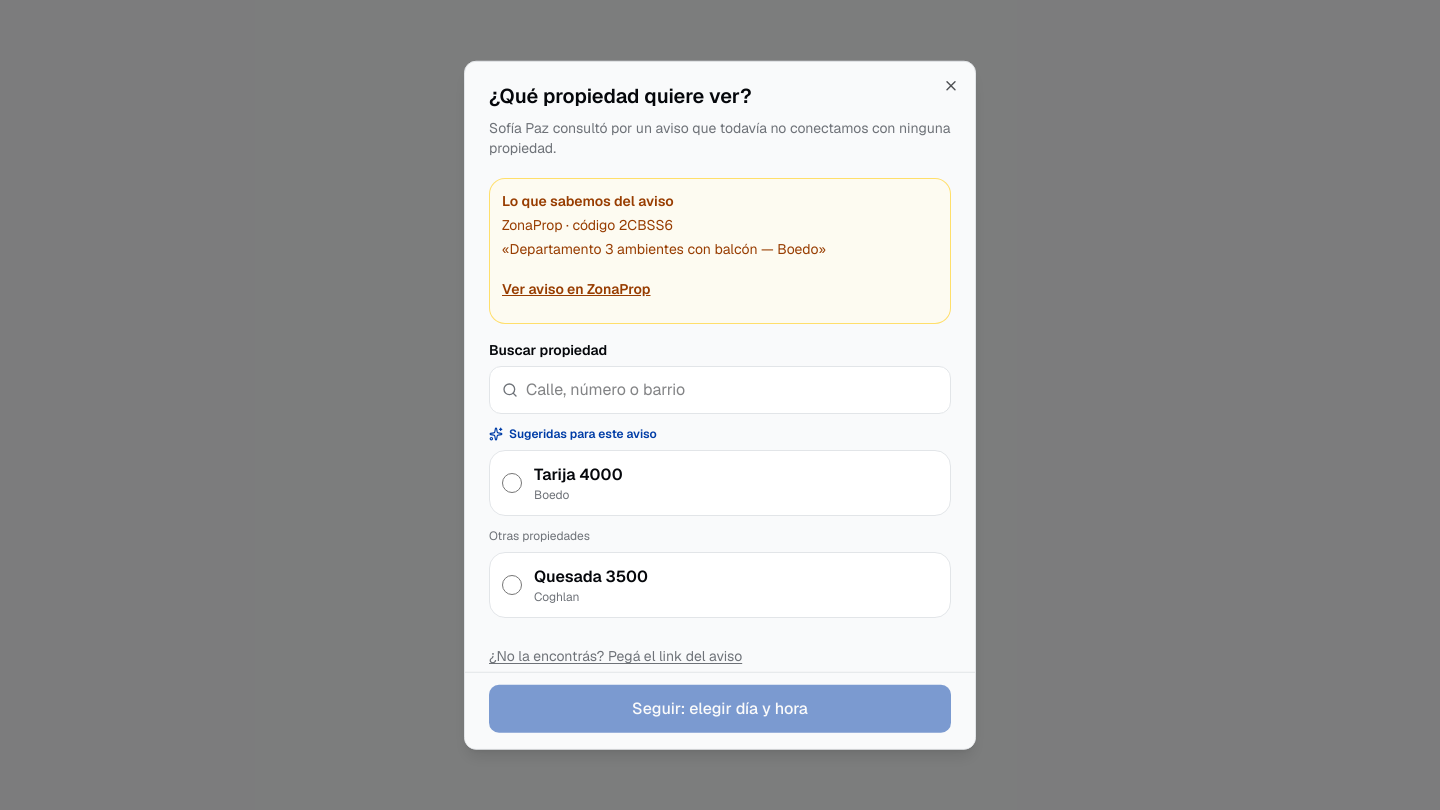
Test case: AgendarDesdeConsulta › sin propiedad y coordinador: conecta el aviso entero ANTES de agendar
Expected: the heading "¿Qué propiedad quiere ver?" is shown, [489,83,752,109]
Expected: the text "Sugeridas para este aviso" is shown, [489,426,657,442]
Click the radio button labelled "Tarija 4000 Boedo": {"x": 512, "y": 483} [502,473,522,493]
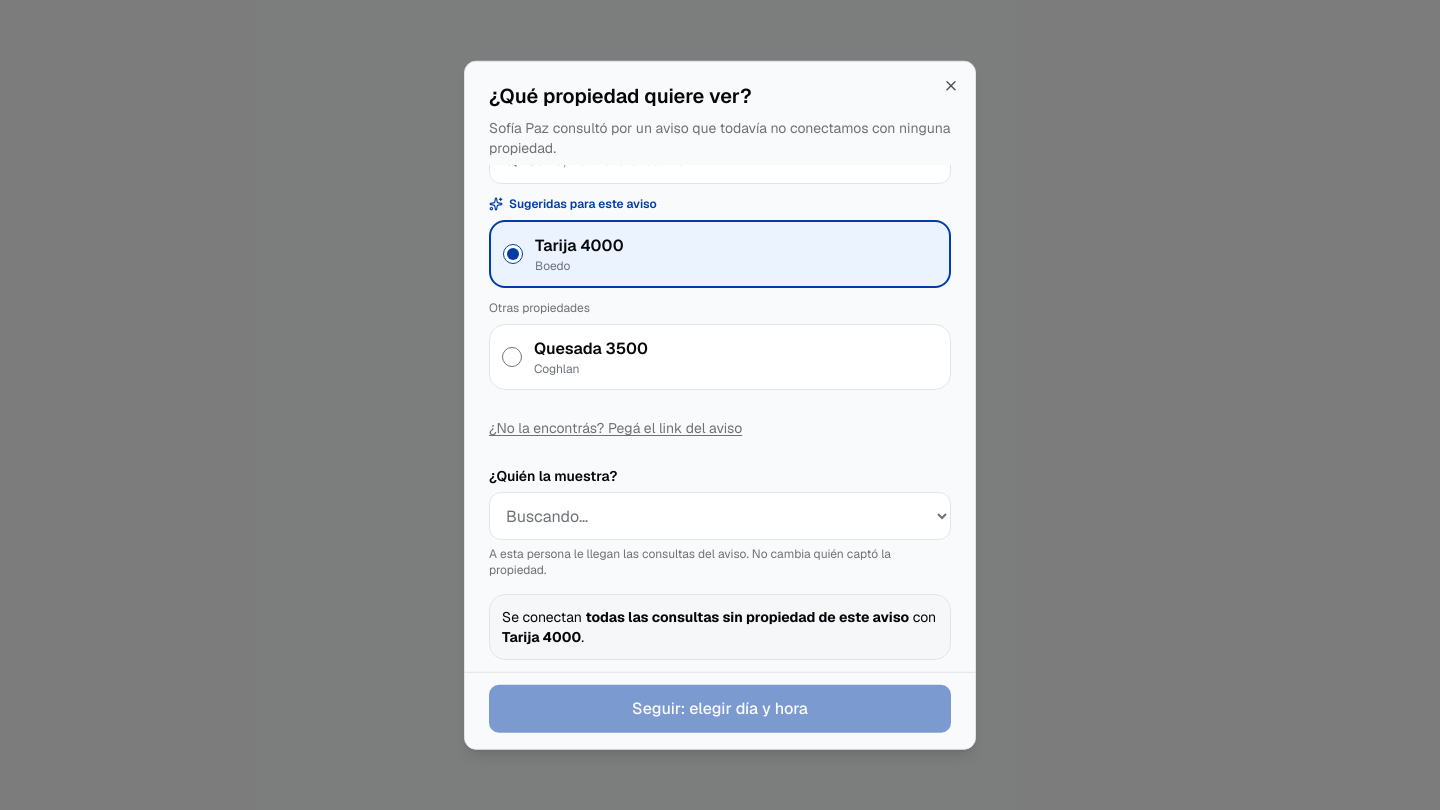
Expected: the button "Seguir: elegir día y hora" is disabled, [489,684,951,732]
Now the text "todas las consultas sin propiedad de este aviso" is shown, box [586,608,909,626]
Select "Paula" in the dropdown labelled "Quién la muestra": {"x": 720, "y": 516} [489,492,951,540]
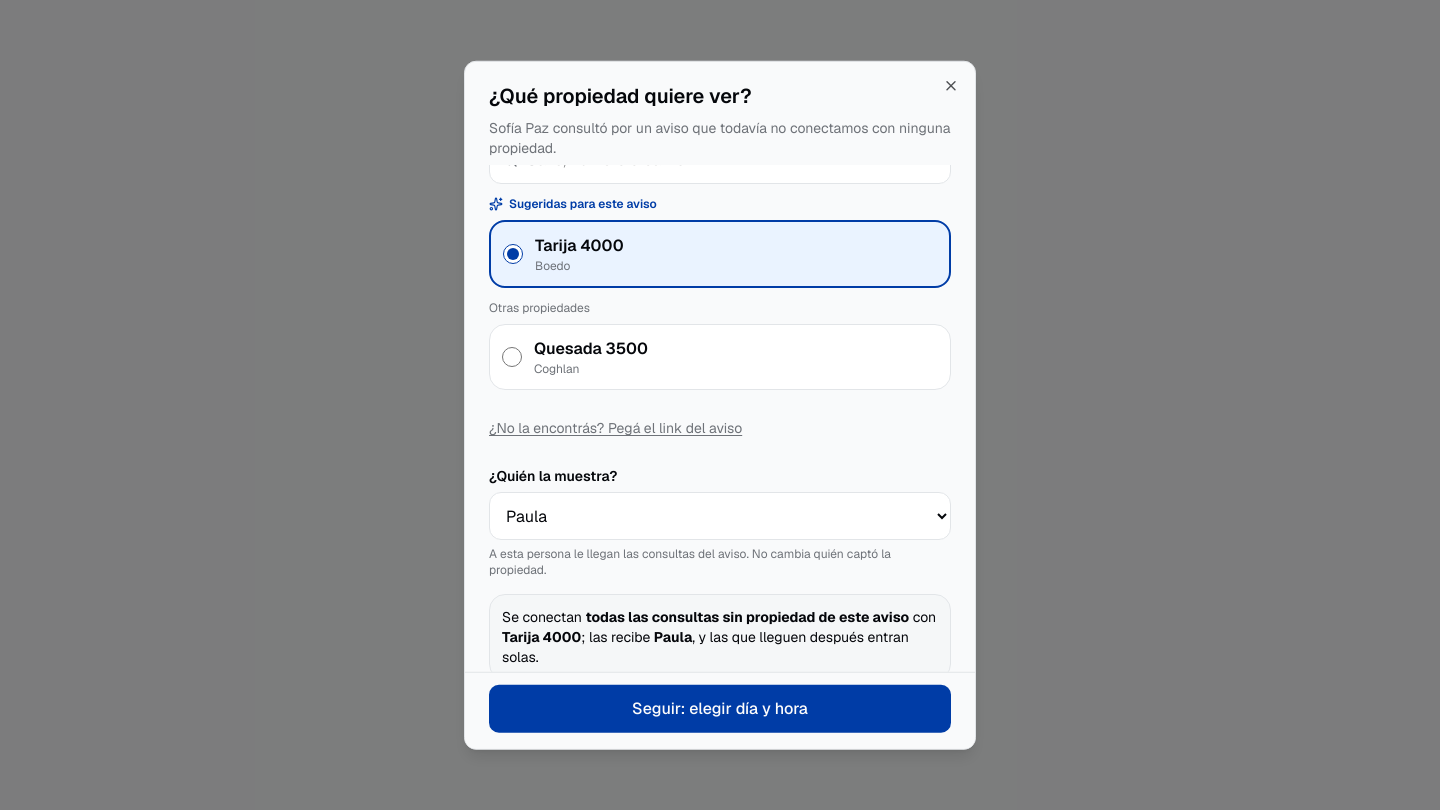
Click the button "Seguir: elegir día y hora": {"x": 720, "y": 708} [489,684,951,732]
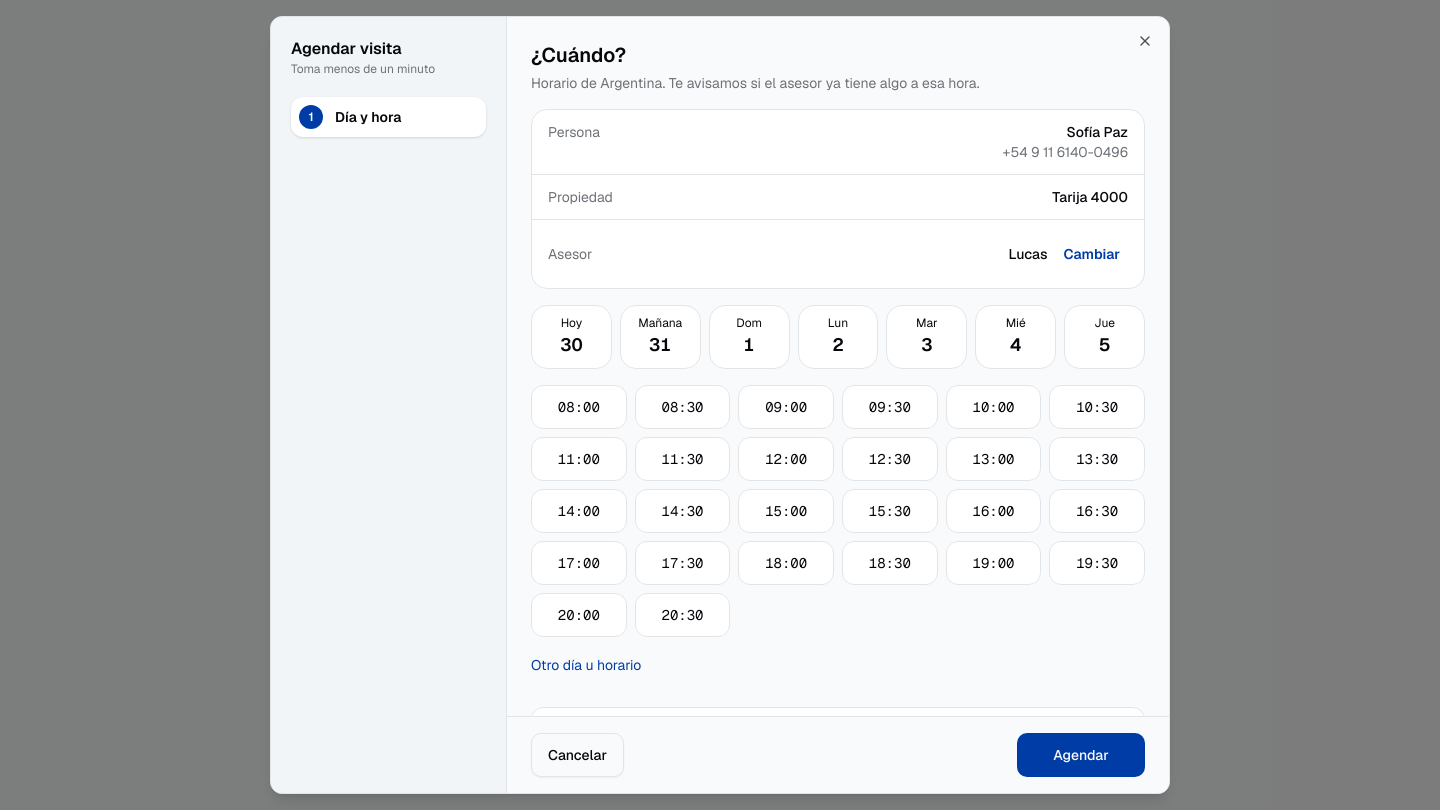
Now the heading "¿Cuándo?" is shown, box [531,42,626,68]
Click the button "Hoy 30": {"x": 571, "y": 337} [531,305,612,369]
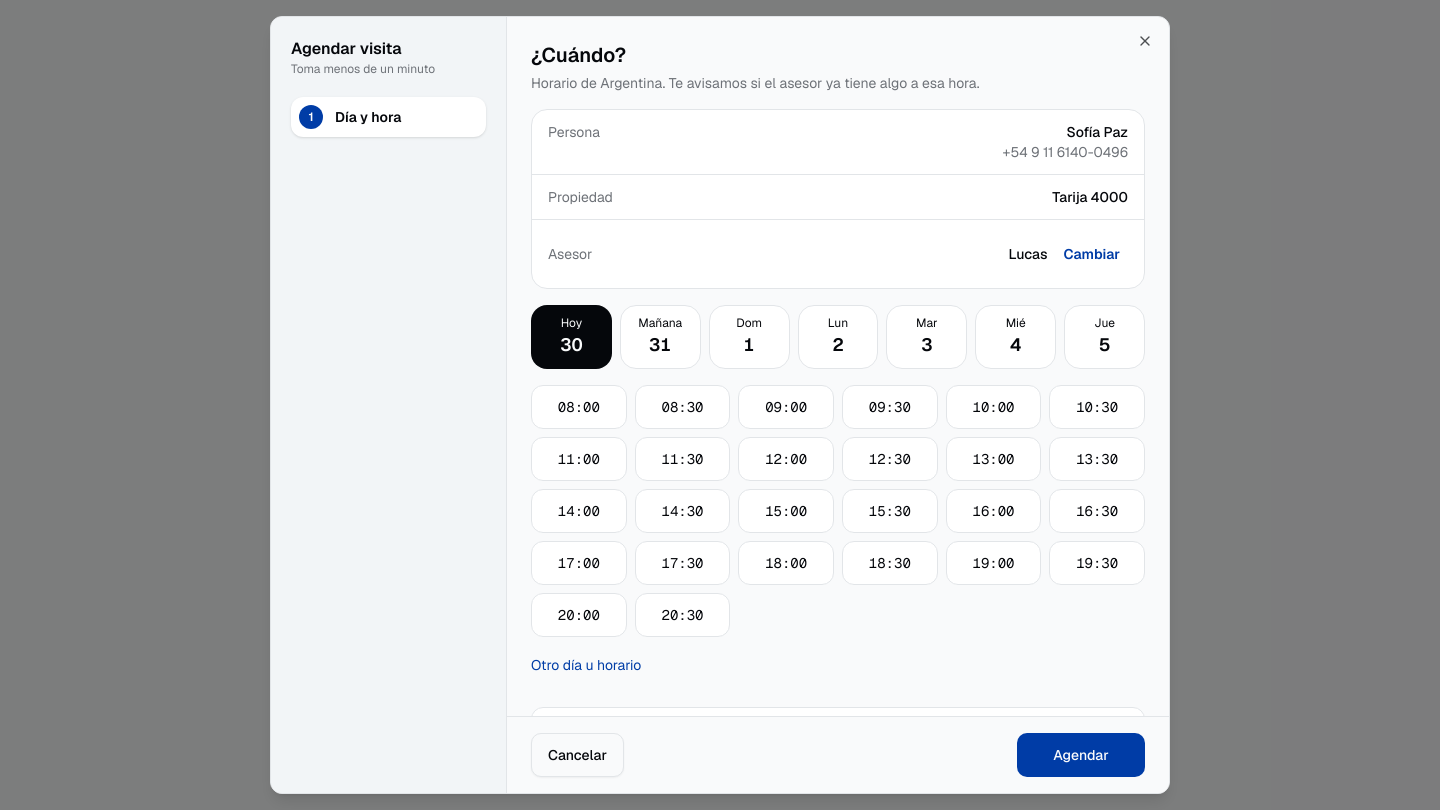
Click the button "10:00": {"x": 994, "y": 407} [946,385,1041,429]
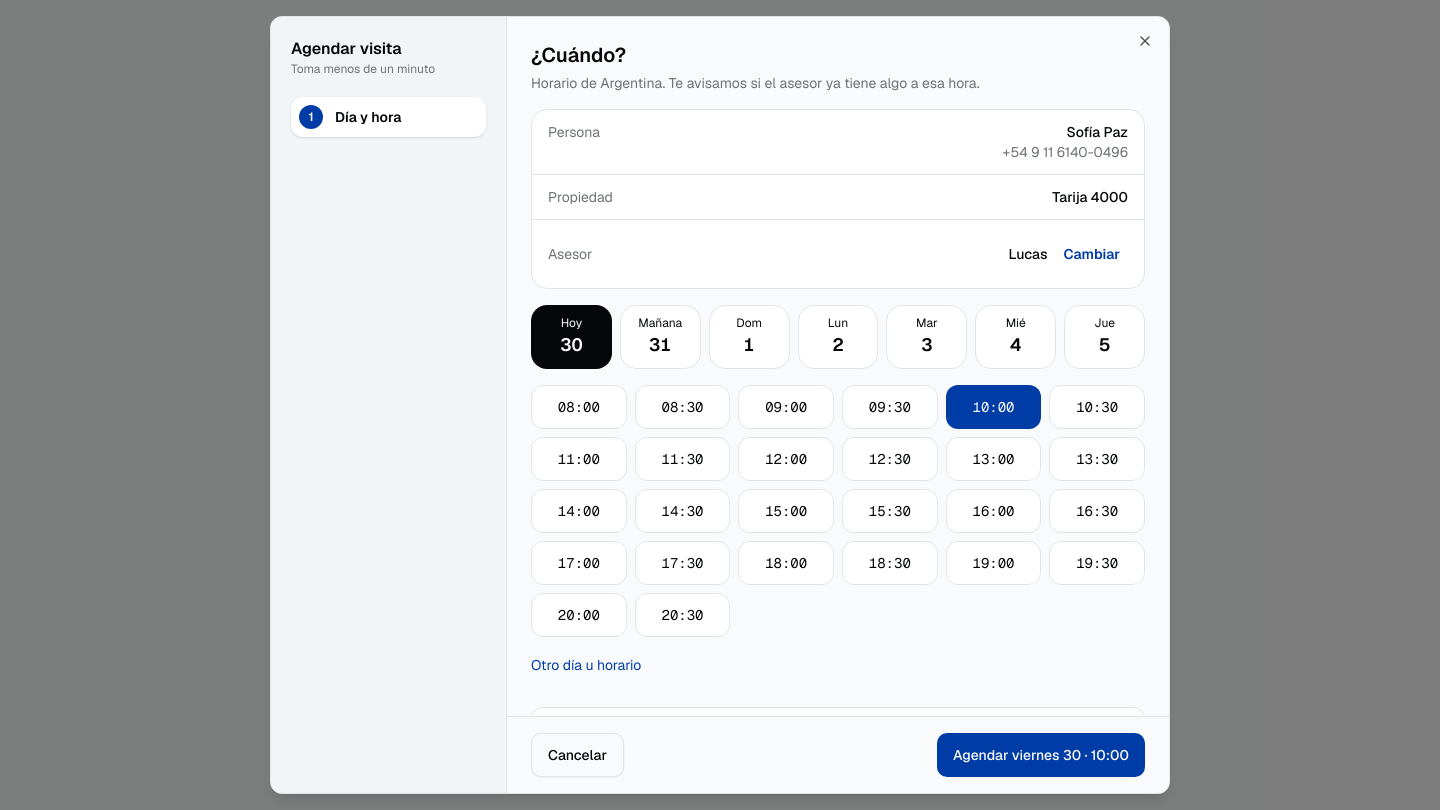
Click the button "Agendar viernes 30 · 10:00": {"x": 1041, "y": 755} [937,733,1145,777]
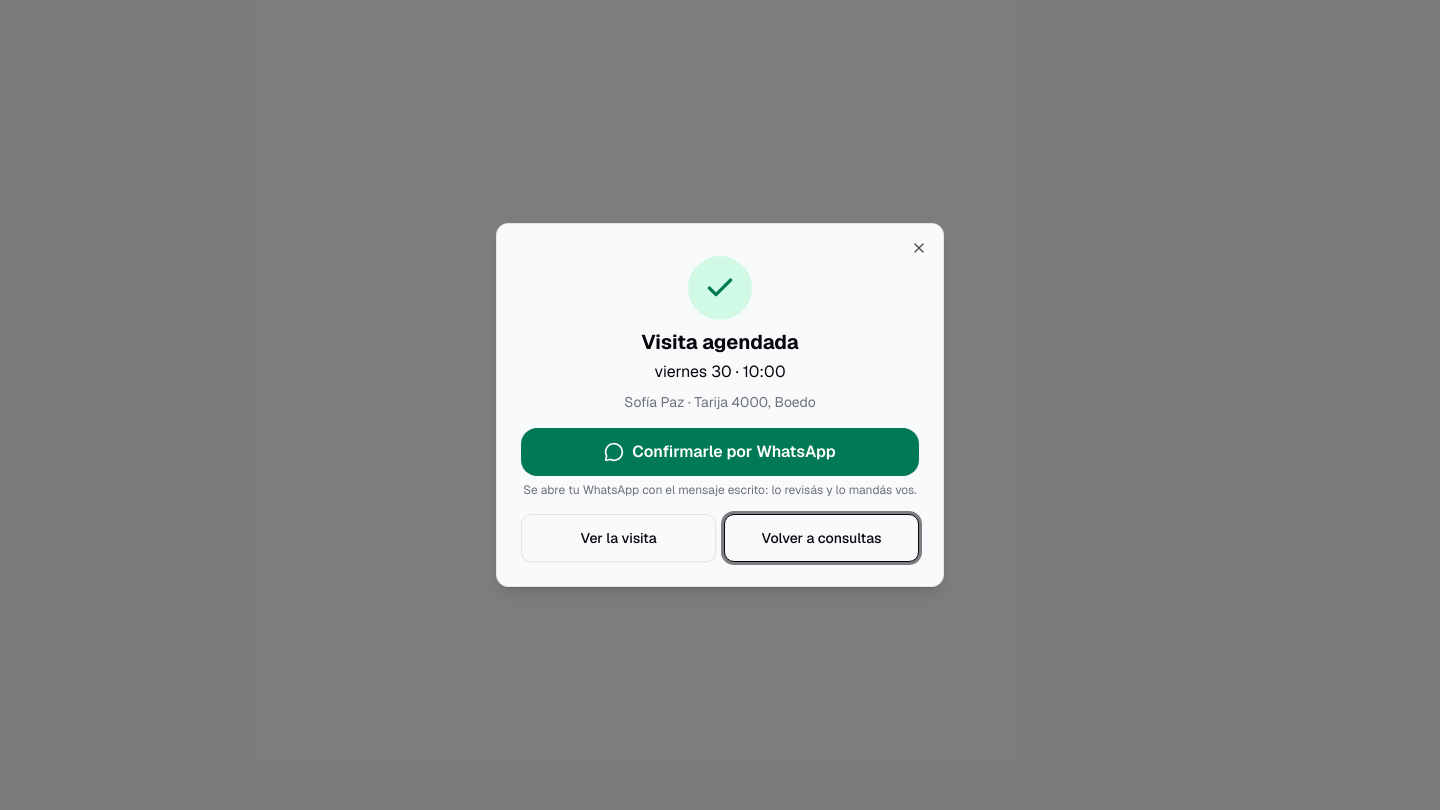
Now the heading "Visita agendada viernes 30 · 10:00" is shown, box [641,328,799,384]
